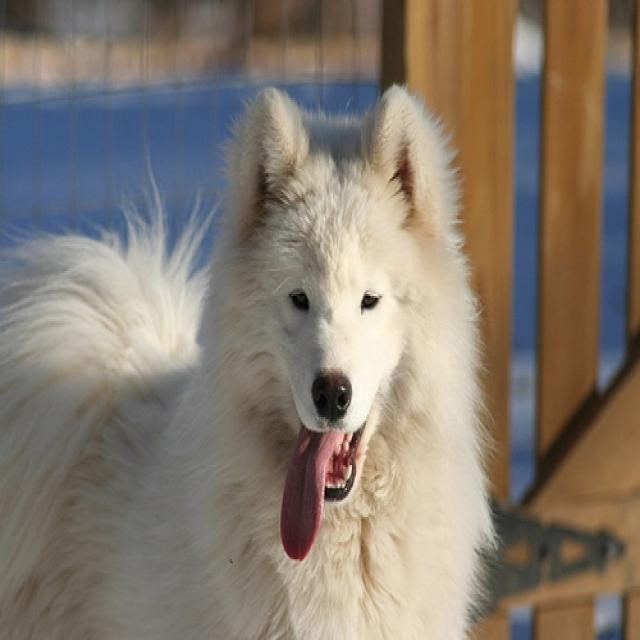dog-samoyed: (1, 77, 483, 636)
